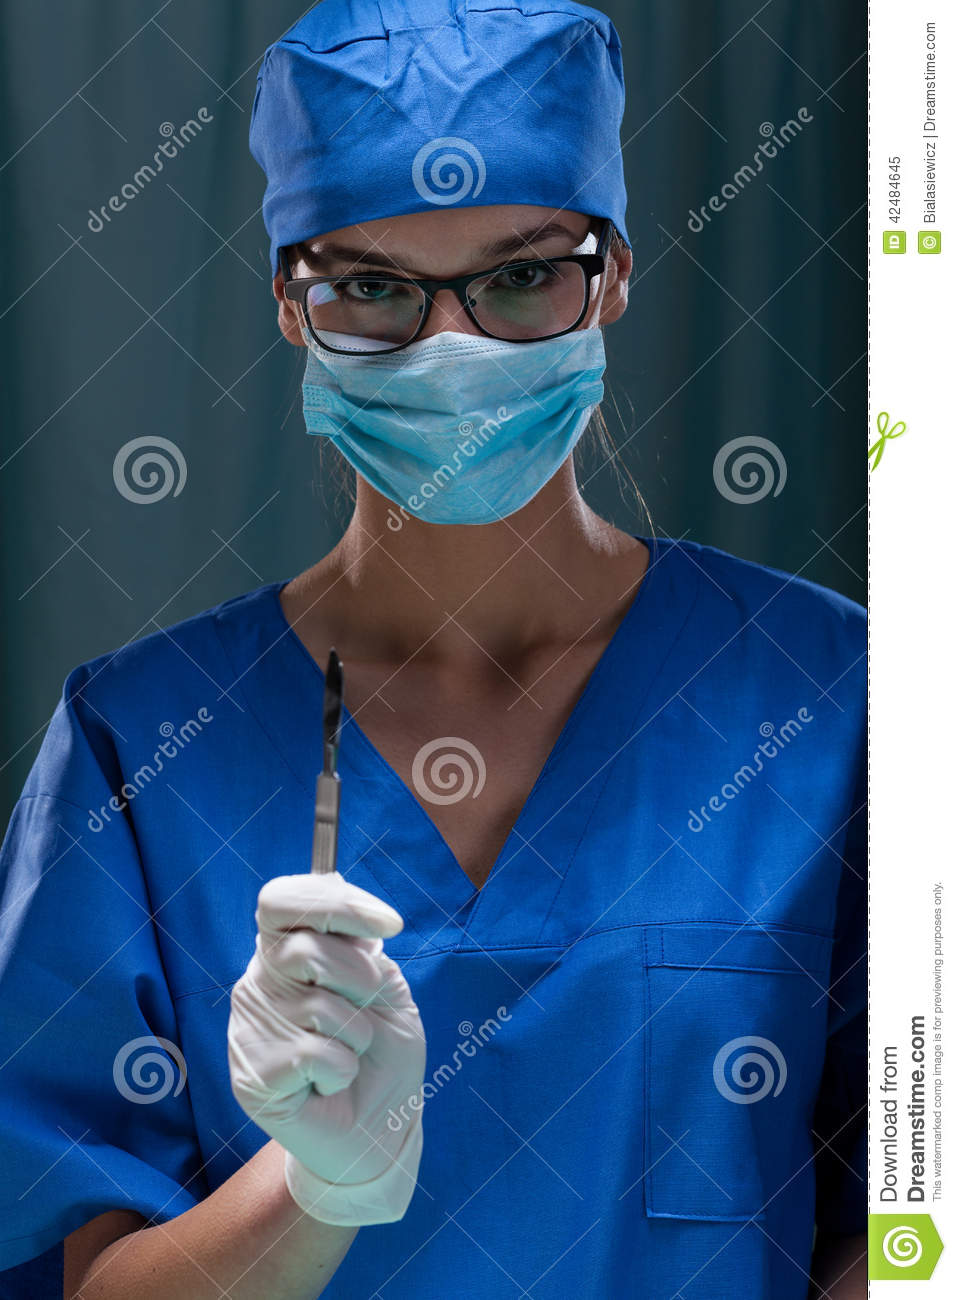mask: (302, 335, 616, 537)
